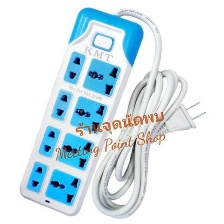three_eye_plug: (14, 3, 148, 218)
